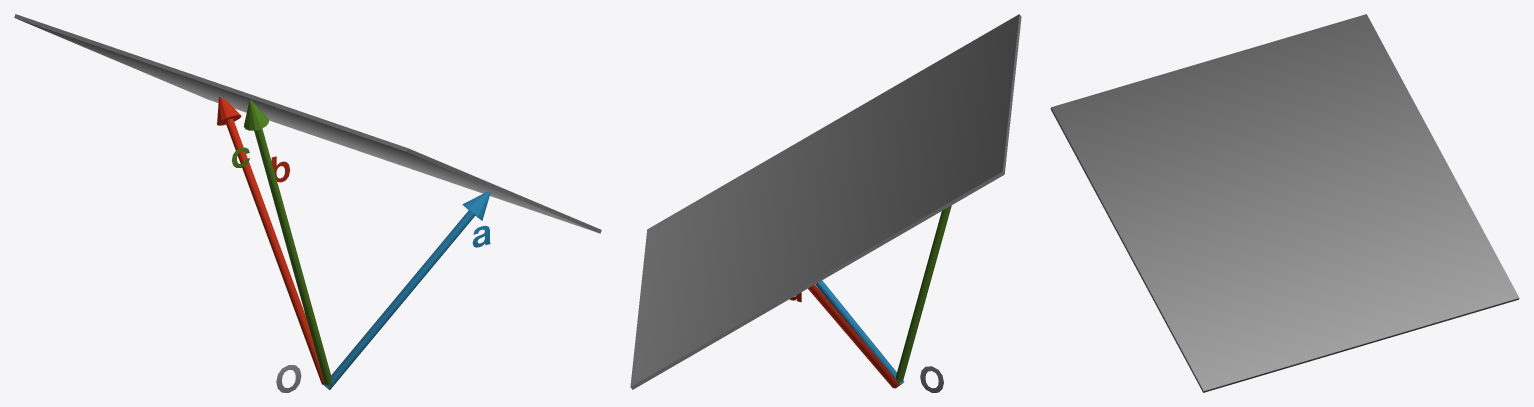
3 renders of one model, left to right at view 1: azimuth 30°, elevation 25°; view 2: azimuth 150°, elevation 25°; view 3: azimuth 270°, elevation 25°, orthographic. The views are drawn at different scales.
Parts seen in each view (by area): view 1: Cube.015, Cylinder.011, Cylinder.010, Cylinder.012; view 2: Cube.015, Cylinder.011, Cylinder.010, Cylinder.012, Text.016; view 3: Cube.015.
Boxes of the visible parts, box(x1,y1,x2,y2) form: Cube.015: box(14, 14, 601, 233); Cylinder.011: box(244, 100, 331, 386); Cylinder.010: box(217, 97, 324, 384); Cylinder.012: box(323, 191, 490, 389); Cube.015: box(630, 14, 1021, 389); Cylinder.011: box(896, 205, 951, 382); Cylinder.010: box(808, 284, 898, 388); Cylinder.012: box(815, 280, 904, 386); Text.016: box(920, 366, 943, 392); Cube.015: box(1050, 14, 1519, 392).
Size of the model in its own units: 2.62 by 1.83 by 2.86.
1 material, 1 textured.
